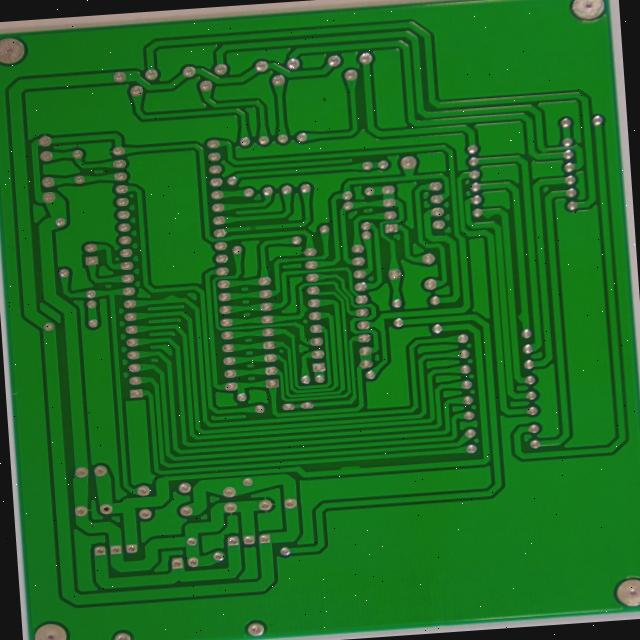spur: (281, 519, 317, 533), (494, 343, 513, 369), (452, 232, 478, 250), (75, 330, 102, 342), (238, 339, 252, 356)
